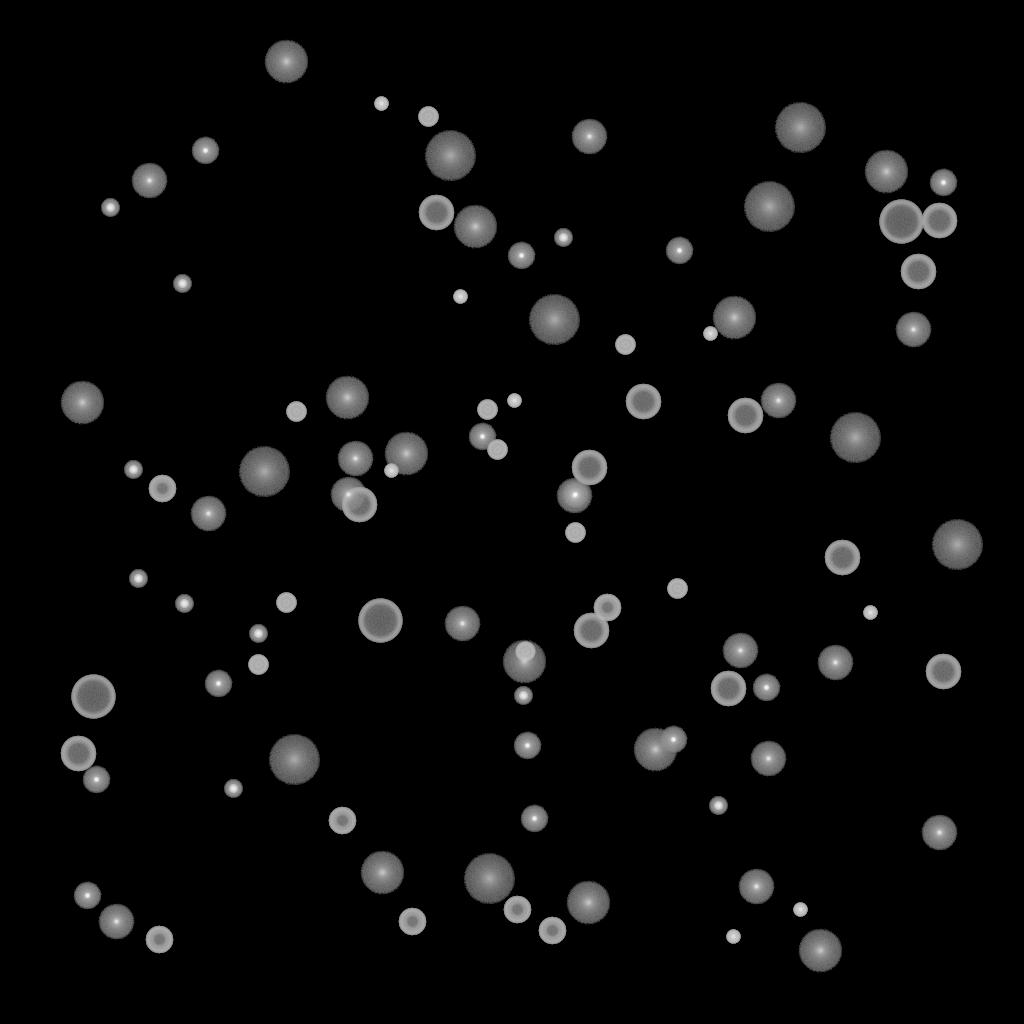depth:-10: (204, 670, 232, 698), (659, 726, 687, 754), (82, 766, 110, 794), (73, 882, 101, 910), (752, 674, 780, 702), (520, 805, 548, 833), (191, 137, 219, 165), (665, 237, 693, 265), (513, 732, 541, 760), (929, 169, 957, 197), (468, 423, 496, 451), (561, 481, 589, 509), (507, 242, 535, 270)
depth:-20: (175, 595, 193, 613), (514, 687, 532, 705), (173, 275, 191, 293), (554, 229, 572, 247), (249, 625, 267, 643), (124, 461, 142, 479), (129, 570, 147, 588), (709, 797, 727, 815), (224, 780, 242, 798), (101, 199, 119, 217)
depth:-30: (863, 606, 877, 620), (453, 290, 467, 304), (374, 97, 388, 111), (793, 903, 807, 917), (384, 464, 398, 478), (726, 930, 740, 944), (507, 394, 521, 408), (703, 327, 717, 341)
depth:-40: (667, 579, 687, 599), (477, 400, 497, 420), (515, 642, 535, 662), (615, 335, 635, 355), (418, 107, 438, 127), (248, 655, 268, 675), (487, 440, 507, 460), (565, 523, 585, 543), (286, 402, 306, 422), (276, 593, 296, 613)
depth:-50: (398, 908, 426, 936), (593, 594, 621, 622), (503, 896, 531, 924), (148, 475, 176, 503), (538, 917, 566, 945), (328, 807, 356, 835), (145, 926, 173, 954)
depth:-60: (824, 540, 860, 576), (925, 654, 961, 690), (727, 398, 763, 434), (921, 203, 957, 239), (418, 195, 454, 231), (625, 384, 661, 420), (573, 613, 609, 649), (341, 487, 377, 523), (900, 254, 936, 290), (571, 450, 607, 486), (710, 671, 746, 707), (60, 736, 96, 772)
depth:-70: (879, 200, 923, 244), (358, 599, 402, 643), (71, 675, 115, 719)
depth:0: (895, 312, 931, 348), (330, 477, 366, 513), (190, 496, 226, 532), (571, 119, 607, 155), (98, 904, 134, 940), (738, 869, 774, 905), (444, 606, 480, 642), (556, 478, 592, 514), (817, 645, 853, 681), (131, 163, 167, 199), (722, 633, 758, 669), (760, 383, 796, 419), (921, 815, 957, 851), (337, 441, 373, 477), (750, 741, 786, 777)
depth:10: (384, 432, 428, 476), (325, 376, 369, 420), (864, 150, 908, 194), (502, 640, 546, 684), (712, 296, 756, 340), (633, 728, 677, 772), (453, 205, 497, 249), (264, 40, 308, 84), (360, 851, 404, 895), (566, 881, 610, 925), (798, 929, 842, 973), (60, 381, 104, 425)
depth:20: (238, 447, 290, 497), (424, 131, 476, 181), (463, 854, 515, 904), (268, 735, 320, 785), (743, 182, 795, 232), (931, 520, 983, 570), (829, 413, 881, 463), (774, 103, 826, 153), (528, 295, 580, 345)
